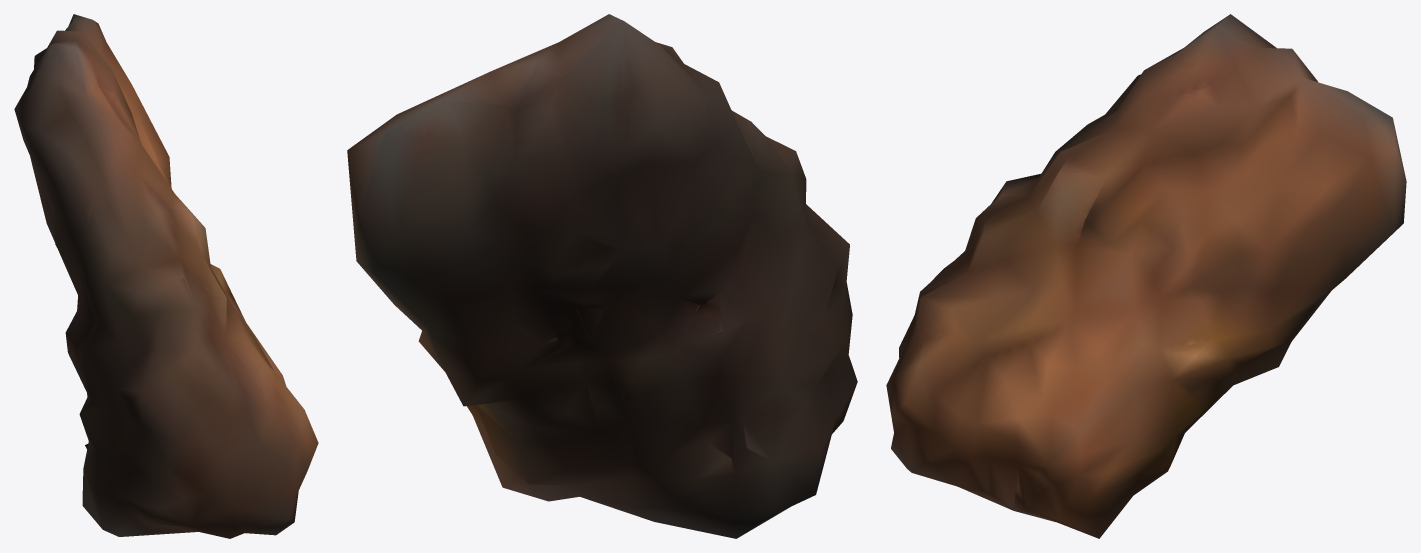
File: plank_root.glb
3 views of the same model, side by side, from view 1: azimuth 30°, elevation 25°; view 2: azimuth 150°, elevation 25°; view 3: azimuth 270°, elevation 25° (orthographic). The views are drawn at different scales.
Parts seen in each view (by area): view 1: model; view 2: model; view 3: model.
Boxes of the visible parts, x1,y1,x2,y2 form: model: (14,14,318,538); model: (347,14,857,538); model: (886,14,1406,538).
Size of the model in its own units: 0.2081 by 0.3842 by 0.4011.
1 material, 1 textured.
